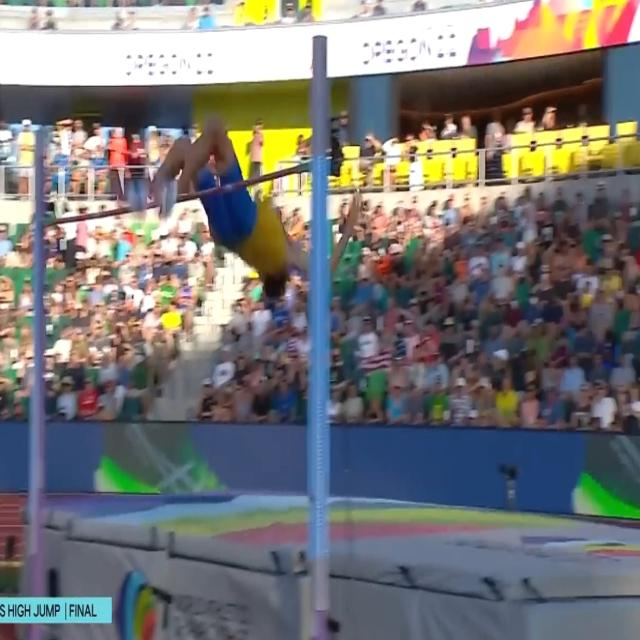jump: (123, 128, 362, 300)
